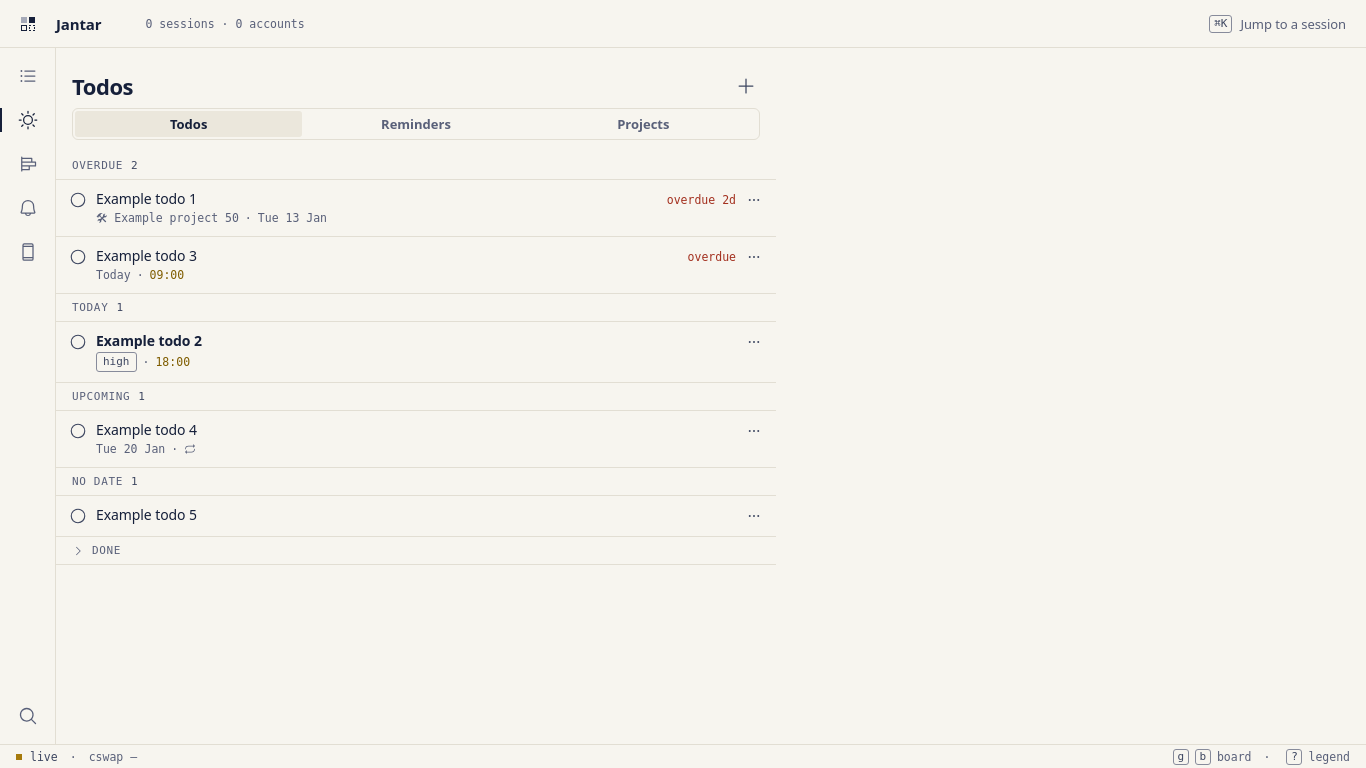
Test case: Todos: the list › offers every snooze preset, Edit and Delete
Step 1. Click the button named "Actions for Example todo 1" → click(754, 200), box [740,186,768,214]
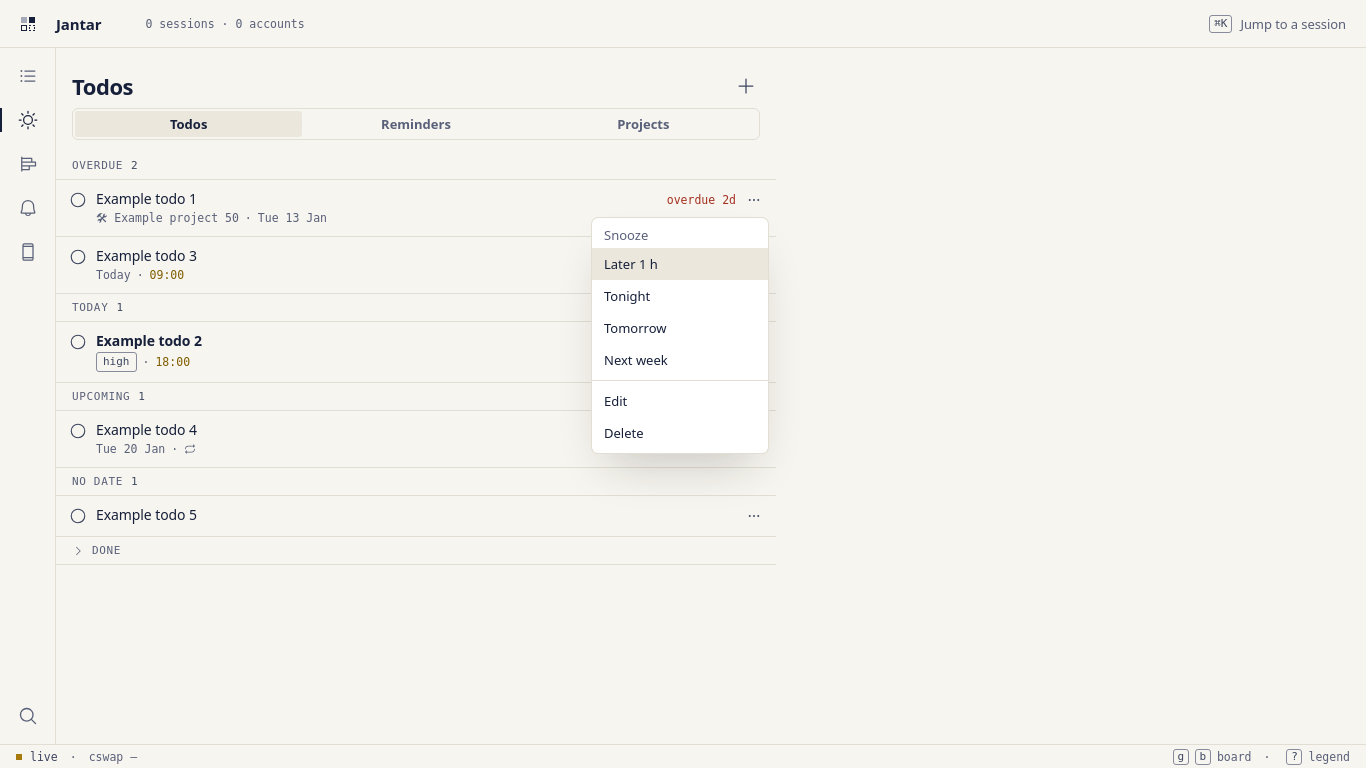
Check: the menu item "Tonight" is shown, box [604,287,650,305]
Check: the menu items read "Later 1 h", "Tonight", "Tomorrow", "Next week", "Edit", "Delete", in this order, box [592,248,768,280]; [604,287,650,305]; [604,319,666,337]; [604,351,668,369]; [604,392,627,410]; [604,424,644,442]
